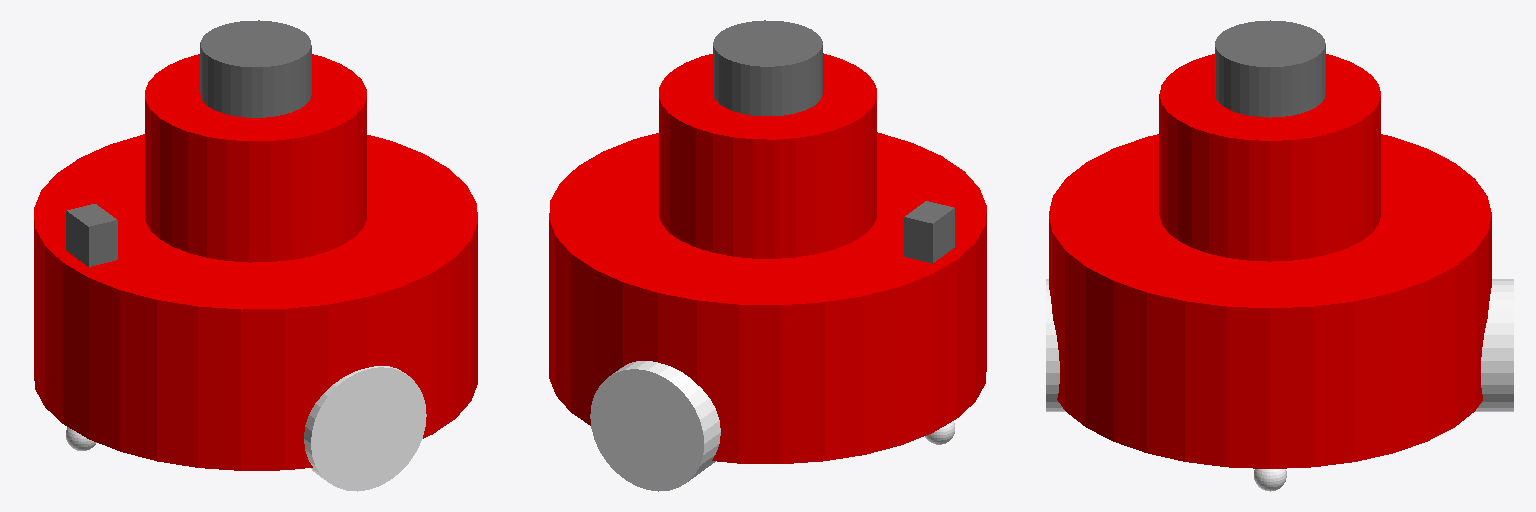
The robot description file, URDF, robot "mbot":
<?xml version="1.0" ?>
<robot name="mbot">

  <link name="base_link">
    <visual>
      <origin xyz="0 0 0" rpy="0 0 0"/>
      <geometry>
        <cylinder length="0.16" radius="0.2"/>
      </geometry>
      <material name="red">
        <color rgba="1 0 0 1"/>
      </material>
    </visual>
  </link>

  <joint name="left_wheel_joint" type="continuous">
    <origin xyz="0 0.19 -0.05" rpy="0 0 0" />
    <parent link="base_link" />
    <child link="left_wheel_link" />
    <axis xyz="0 1 0" />
  </joint>

  <link name="left_wheel_link">
    <visual>
      <origin xyz="0 0 0" rpy="1.5707 0 0"/>
      <geometry>
        <cylinder length="0.06" radius="0.06"/>
      </geometry>
      <material name="white">
        <color rgba="1 1 1 0.9"/>
      </material>
    </visual>
  </link>

  <joint name="right_wheel_joint" type="continuous">
    <origin xyz="0 -0.19 -0.05" rpy="0 0 0" />
    <parent link="base_link" />
    <child link="right_wheel_link" />
    <axis xyz="0 1 0" />
  </joint>

  <link name="right_wheel_link">
    <visual>
      <origin xyz="0 0 0" rpy="1.5707 0 0"/>
      <geometry>
        <cylinder length="0.025" radius="0.06" />
      </geometry>
      <material name="white">
        <color rgba="1 1 1 0.9"/>
      </material>
    </visual>
  </link>

  <joint name="front_caster_joint" type="continuous">
    <origin xyz="0.18 0 -0.095" rpy="0 0 0" />
    <parent link="base_link"/>
    <child link="front_caster_link" />
    <axis xyz="0 1 0" />
  </joint>

  <link name="front_caster_link">
    <visual>
      <origin xyz="0 0 0" rpy="0 0 0" />
      <geometry>
        <sphere radius="0.015" />
      </geometry>
      <material name="white">
        <color rgba="1 1 1 0.9"/>
      </material>
    </visual>
  </link>

  <joint name="back_caster_joint" type="continuous">
    <origin xyz="-0.18 0 -0.095" rpy="0 0 0" />
    <parent link="base_link"/>
    <child link="back_caster_link" />
    <axis xyz="0 1 0" />
  </joint>

  <link name="back_caster_link">
    <visual>
      <origin xyz="0 0 0" rpy="0 0 0" />
      <geometry>
        <sphere radius="0.015" />
      </geometry>
      <material name="white">
        <color rgba="1 1 1 0.9"/>
      </material>
    </visual>
  </link>

  <joint name="camera_joint" type="fixed">
    <origin xyz="-0.17 0 0.1" rpy="0 0 0" />
    <parent link="base_link"/>
    <child link="camera_link" />    
  </joint>

  <link name="camera_link">
    <visual>
      <origin xyz="0 0 0" rpy="0 0 0" />
      <geometry>
        <box size="0.03 0.04 0.04" />
      </geometry>
      <material name="grey">
        <color rgba="0.5 0.5 0.5 1"/>
      </material>
    </visual>
  </link>

  <joint name="stage_joint" type="fixed">
    <origin xyz="0 0 0.14" rpy="0 0 0" />
    <parent link="base_link"/>
    <child link="stage_link" />    
  </joint>

  <link name="stage_link">
    <visual>
      <origin xyz="0 0 0" rpy="0 0 0"/>
      <geometry>
        <cylinder length="0.12" radius="0.1"/>
      </geometry>
      <material name="red">
        <color rgba="1 0 0 1"/>
      </material>
    </visual>
  </link>

  <joint name="laser_joint" type="fixed">
    <origin xyz="0 0 0.085" rpy="0 0 0" />
    <parent link="stage_link"/>
    <child link="laser_link" />    
  </joint>

  <link name="laser_link">
    <visual>
      <origin xyz="0 0 0" rpy="0 0 0" />
      <geometry>
        <cylinder length="0.05" radius="0.05"/>
      </geometry>
      <material name="grey">
        <color rgba="0.5 0.5 0.5 1"/>
      </material>
    </visual>
  </link>

  <joint name="kinect_joint" type="fixed">
    <origin xyz="0.15 0 0.11" rpy="0 0 0" />
    <parent link="base_link"/>
    <child link="kinect_link" />    
  </joint>

  <link name="kinect_link">
    <visual>
      <origin xyz="0 0 0" rpy="0 0 1.5708" />
      <geometry>
        // 使用三维软件导出的模型文件
        <mesh filename="package://mbot_description/meshes/kinect.dae" />
      </geometry>
    </visual>
  </link>
</robot>

--- Facts derived from the render (not from the file) ---
The picture shows the robot from 3 angles, left to right: view 1: azimuth 30°, elevation 25°; view 2: azimuth 150°, elevation 25°; view 3: azimuth 270°, elevation 25°; orthographic projection.
Model mbot with 9 links and 8 joints (4 continuous, 4 fixed), rooted at base_link, posed every joint at zero.
Links seen in each view (by area): view 1: base_link, stage_link, right_wheel_link, laser_link, camera_link; view 2: base_link, stage_link, left_wheel_link, laser_link, camera_link; view 3: base_link, stage_link, laser_link, left_wheel_link, right_wheel_link, front_caster_link.
Boxes of the visible links, x1,y1,x2,y2 form: base_link: (34,134,477,470); stage_link: (145,54,366,262); right_wheel_link: (304,366,426,491); laser_link: (200,20,311,117); camera_link: (66,204,117,266); base_link: (549,132,986,463); stage_link: (659,53,876,258); left_wheel_link: (590,361,720,491); laser_link: (713,20,822,115); camera_link: (904,201,954,263); base_link: (1049,134,1491,468); stage_link: (1159,54,1380,261); laser_link: (1215,20,1325,117); left_wheel_link: (1475,279,1513,411); right_wheel_link: (1046,279,1065,411); front_caster_link: (1254,469,1286,491).
Bounding box of the posed robot: 0.4 × 0.4225 × 0.36 m (x, y, z).
0 mesh visuals loaded from 1 distinct referenced files (none loaded); not drawn: 1 (reference not matched to a file when rendering).
